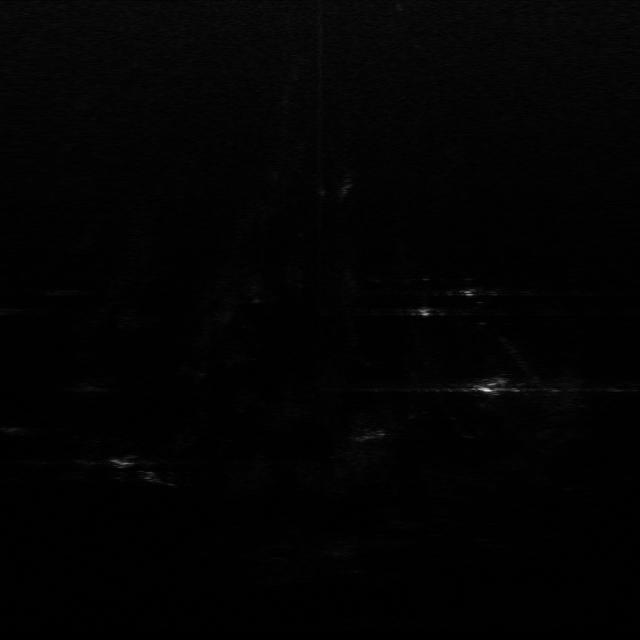rov: (472, 378, 514, 397)
